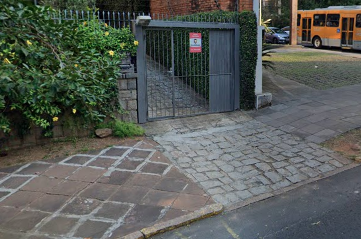vag41: (217, 151, 356, 222)
